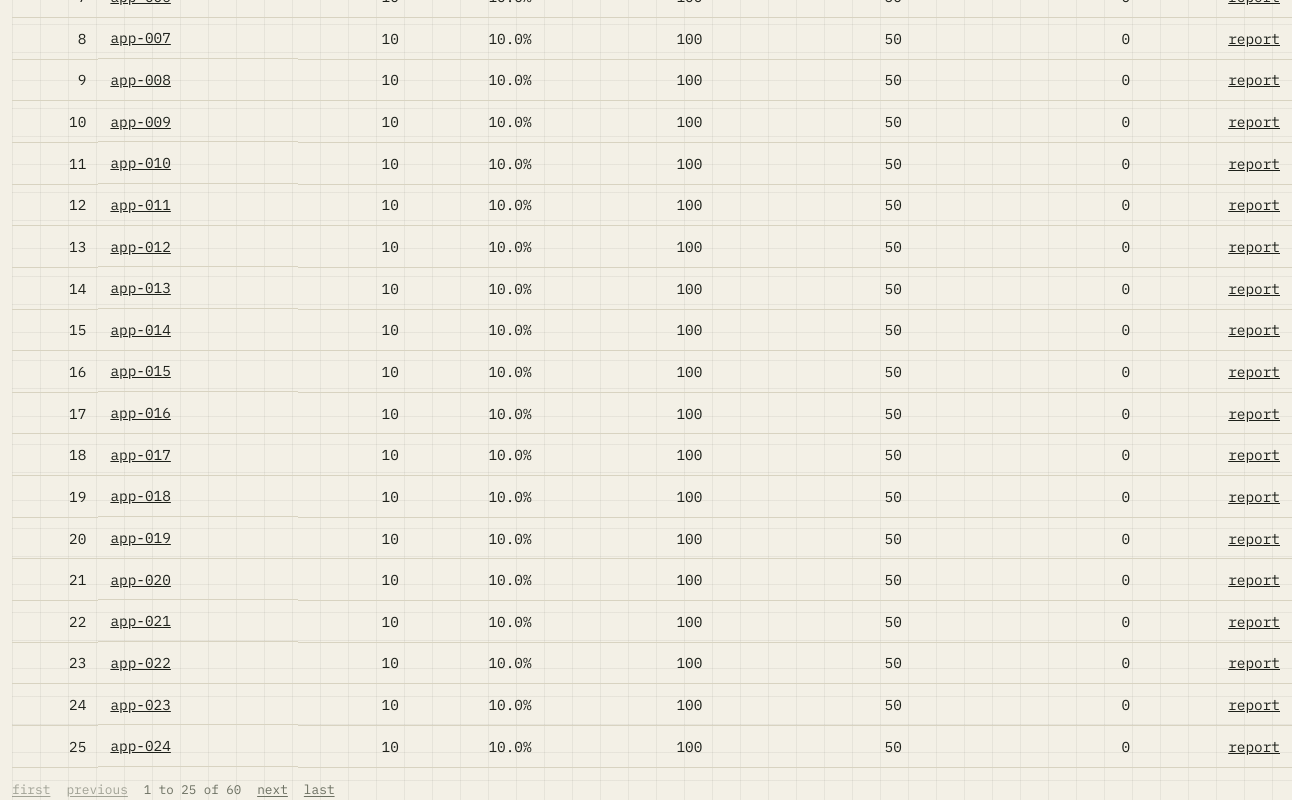
BoardTable paging › returns to the first page when a column is sorted
The width and height of the screenshot is (1292, 800).
(page scrolled)
Click the button "last" at [319, 790], box [304, 780, 335, 799]
(page scrolled)
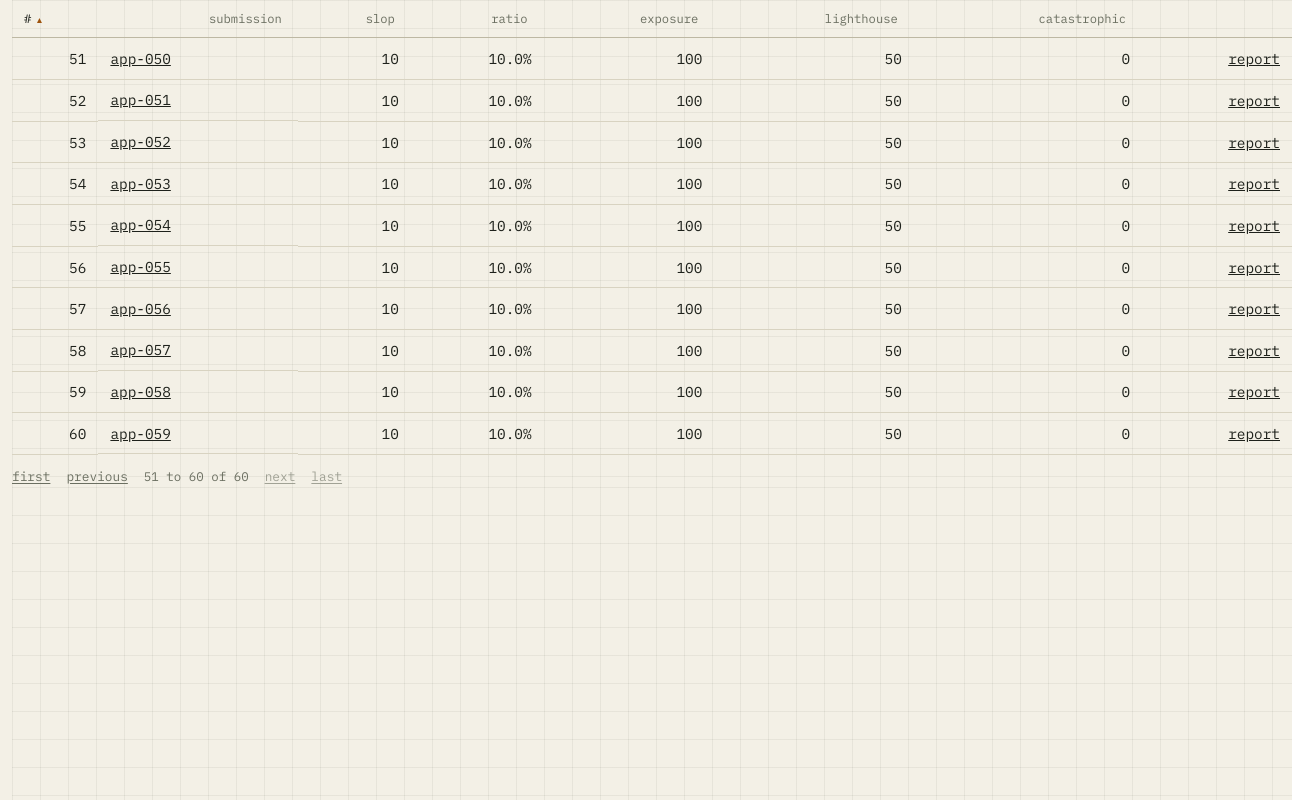
Click the button "slop" at [382, 18], box [366, 9, 399, 28]
(page scrolled)
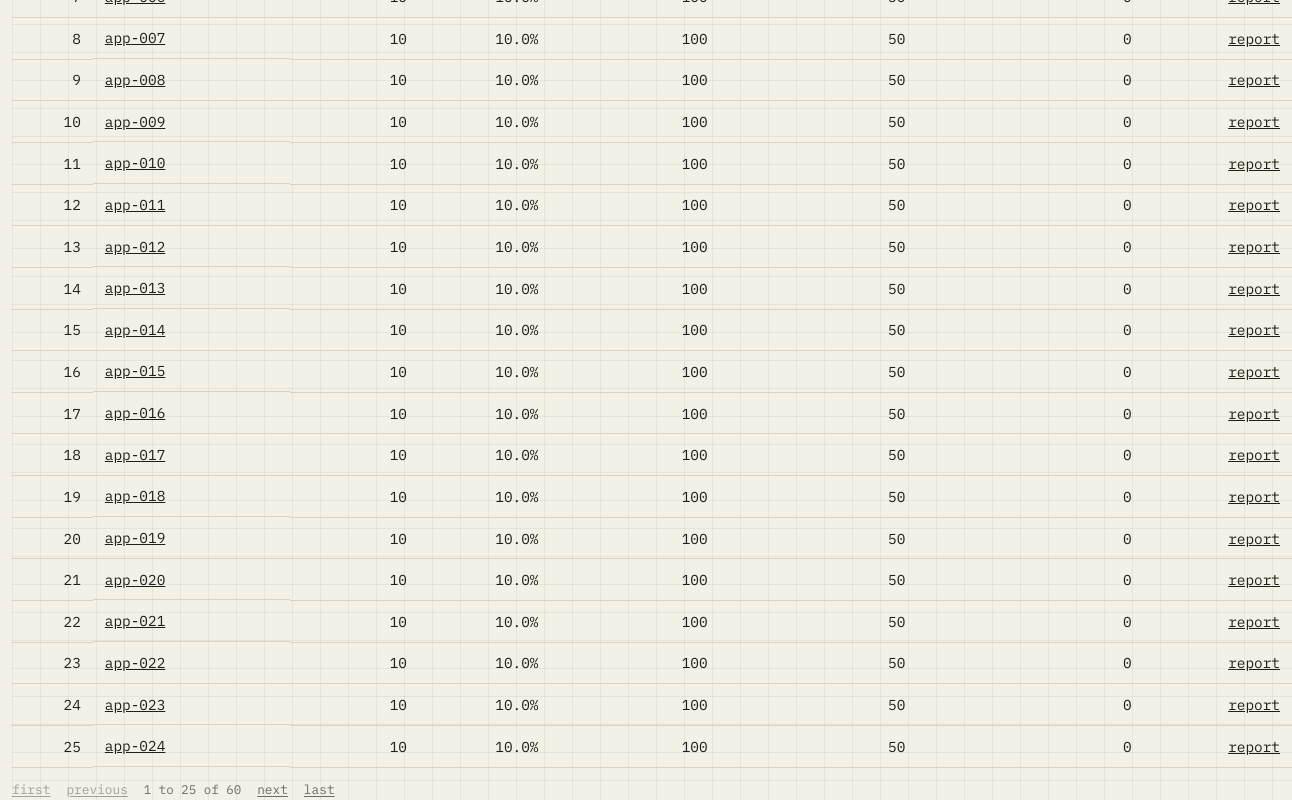
Result: the text "1 to 25 of 60" is shown at [144, 780, 241, 799]
